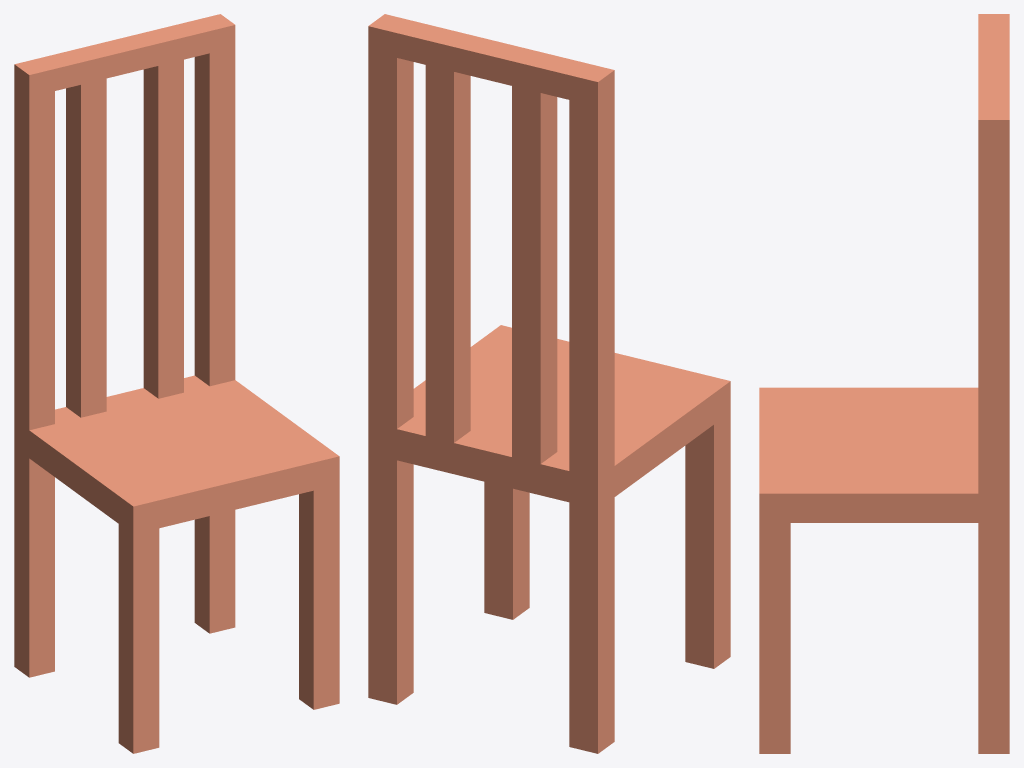
File: newChair.fbx
3 renders of one model, left to right at view 1: azimuth 30°, elevation 25°; view 2: azimuth 150°, elevation 25°; view 3: azimuth 270°, elevation 25°, orthographic. The views are drawn at different scales.
Parts seen in each view (by area): view 1: Cube; view 2: Cube; view 3: Cube.
Boxes of the visible parts, x1,y1,x2,y2 form: Cube: (14,14,339,753); Cube: (368,14,730,753); Cube: (759,14,1009,753).
Size of the model in its own units: 496 by 1384 by 496.
